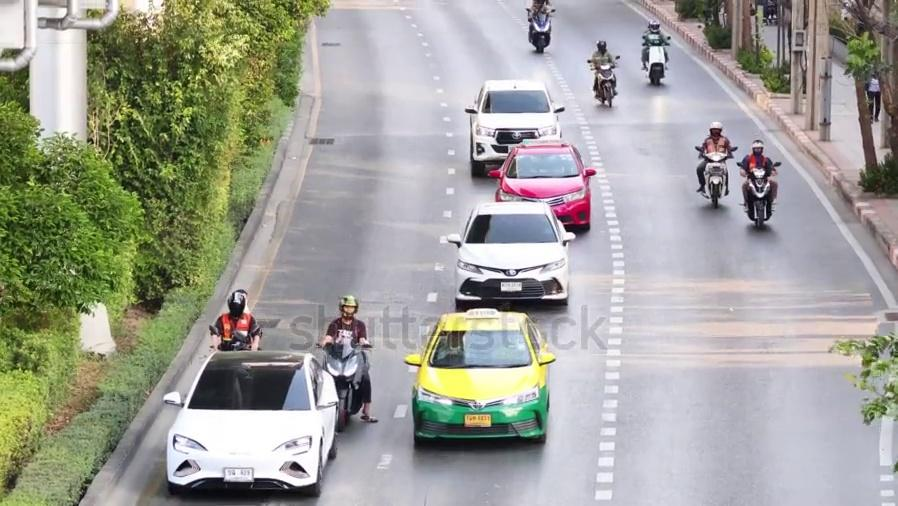person: (864, 70, 881, 122)
rider: (319, 294, 378, 423), (208, 288, 262, 351), (737, 138, 777, 212), (694, 120, 734, 193), (524, 0, 561, 57), (587, 40, 618, 95), (640, 19, 670, 70)
with_helmate: (224, 290, 246, 314), (748, 139, 768, 156), (705, 121, 724, 137), (595, 39, 608, 53), (650, 22, 665, 34)
